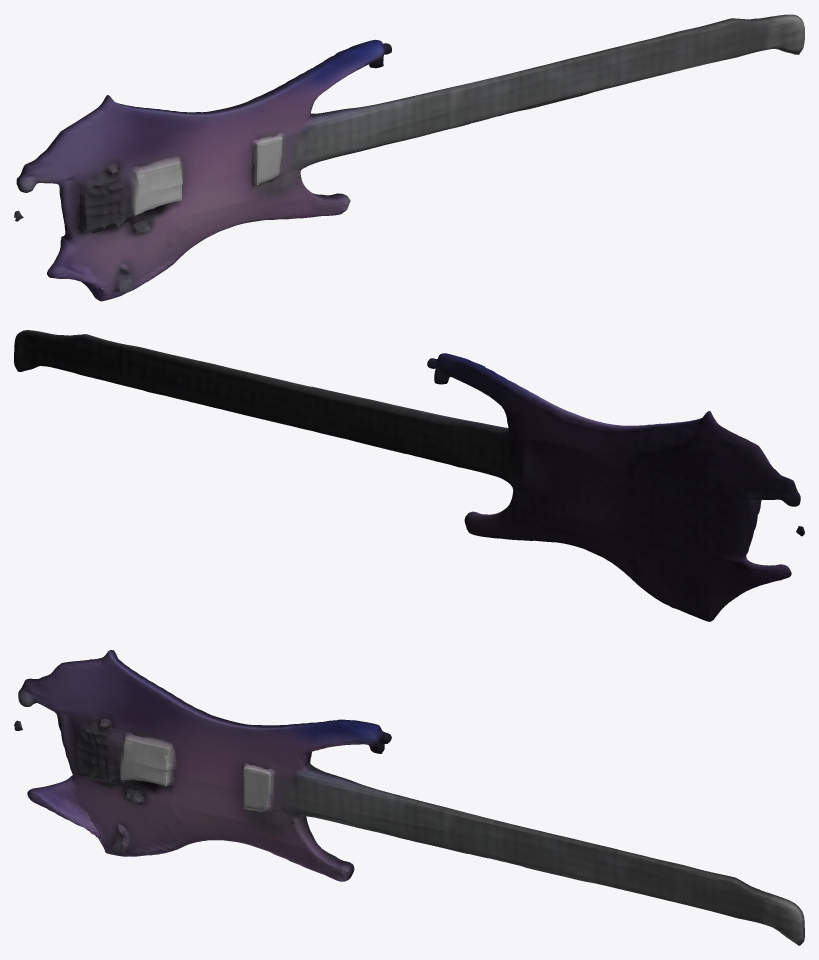
Rendered from bass.glb.
3 renders of one model, top to bottom at view 1: azimuth 30°, elevation 25°; view 2: azimuth 150°, elevation 25°; view 3: azimuth 330°, elevation 25°, orthographic.
Parts seen in each view (by area): view 1: bass.obj; view 2: bass.obj; view 3: bass.obj.
Boxes of the visible parts, x1,y1,x2,y2 form: bass.obj: (14, 14, 804, 301); bass.obj: (14, 330, 804, 621); bass.obj: (14, 650, 804, 945).
Size of the model in its own units: 1 by 0.2494 by 0.0484.
